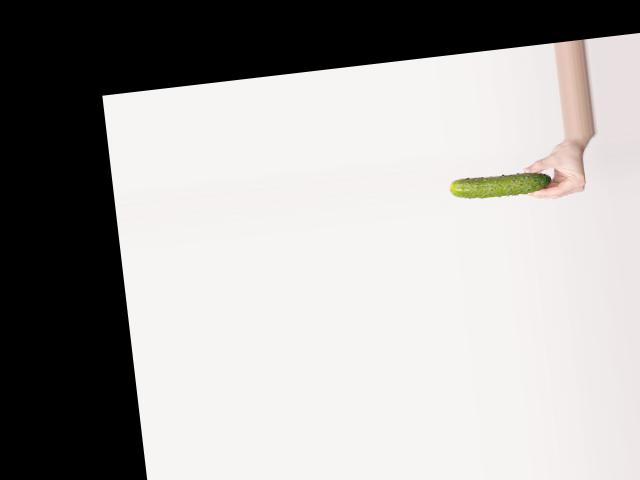cucumber: (449, 170, 552, 202)
